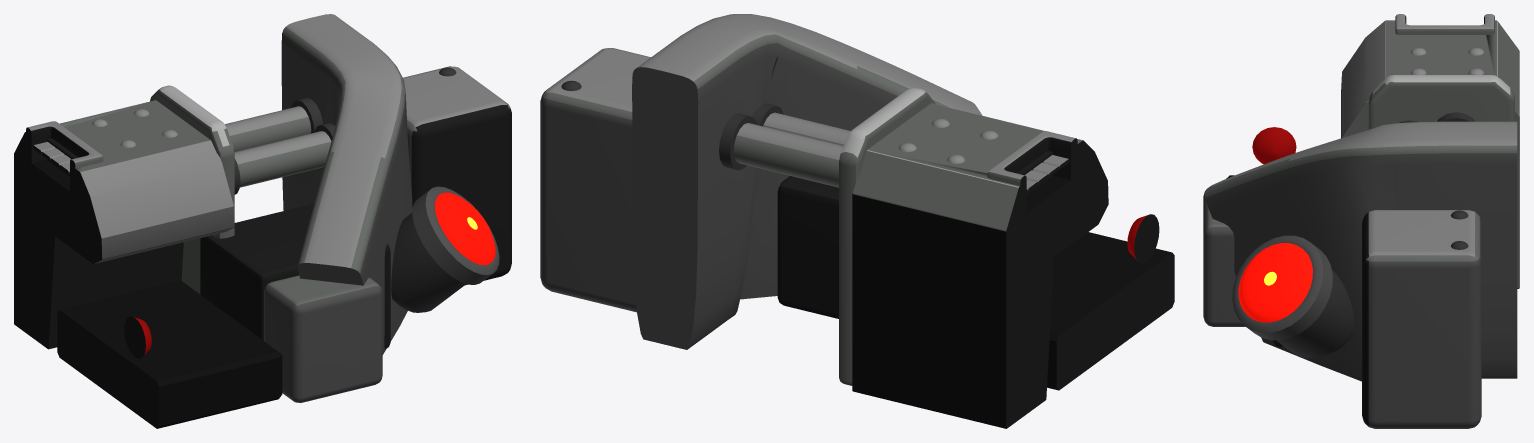
Rendered from jaw_gun_a_right.glb.
3 views of the same model, side by side, from view 1: azimuth 30°, elevation 25°; view 2: azimuth 150°, elevation 25°; view 3: azimuth 270°, elevation 25° (orthographic). The views are drawn at different scales.
Parts seen in each view (by area): view 1: upper_jaw.001, bracket.001, mouth_floor.001, pod.001, bracket_foot.001, base.001, barrel.001, flange.001, rod1.001, muzzle_lens.001, rod0.001, bezel.001 (+2 smaller); view 2: upper_jaw.001, bracket.001, pod.001, mouth_floor.001, base.001, flange.001, rod0.001, bezel.001, rod1.001, throat_lamp.001, rod0_collar1.001; view 3: bracket.001, pod.001, upper_jaw.001, barrel.001, flange.001, muzzle_lens.001, bracket_foot.001, bezel.001, throat_lamp.001.
Part boxes in pixels (box(x1,y1,x2,y2)): upper_jaw.001: box(14, 100, 234, 349); bracket.001: box(281, 14, 412, 354); mouth_floor.001: box(57, 280, 282, 428); pod.001: box(403, 66, 511, 285); bracket_foot.001: box(264, 275, 382, 402); base.001: box(200, 203, 390, 349); barrel.001: box(391, 186, 499, 312); flange.001: box(150, 85, 234, 293); rod1.001: box(234, 131, 331, 187); muzzle_lens.001: box(435, 192, 495, 265); rod0.001: box(225, 106, 311, 151); bezel.001: box(26, 121, 103, 177); upper_jaw.001: box(852, 103, 1108, 428); bracket.001: box(632, 14, 982, 349); pod.001: box(540, 48, 650, 312); mouth_floor.001: box(1047, 232, 1174, 390); base.001: box(777, 176, 838, 318); flange.001: box(839, 87, 935, 385); rod0.001: box(733, 123, 843, 187); bezel.001: box(987, 131, 1077, 196); rod1.001: box(763, 112, 850, 145); throat_lamp.001: box(1127, 214, 1159, 263); rod0_collar1.001: box(719, 113, 756, 170); bracket.001: box(1204, 121, 1517, 381); pod.001: box(1362, 210, 1481, 428); upper_jaw.001: box(1341, 20, 1519, 288); barrel.001: box(1232, 235, 1354, 358); flange.001: box(1368, 75, 1514, 129); muzzle_lens.001: box(1238, 243, 1312, 322); bracket_foot.001: box(1203, 191, 1245, 326); bezel.001: box(1395, 14, 1494, 34); throat_lamp.001: box(1252, 127, 1296, 164).
Bounding box in the file's own units: 22.4 × 11.85 × 14.25.
